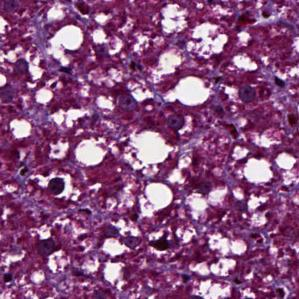steatosis: (175, 74, 212, 107)
